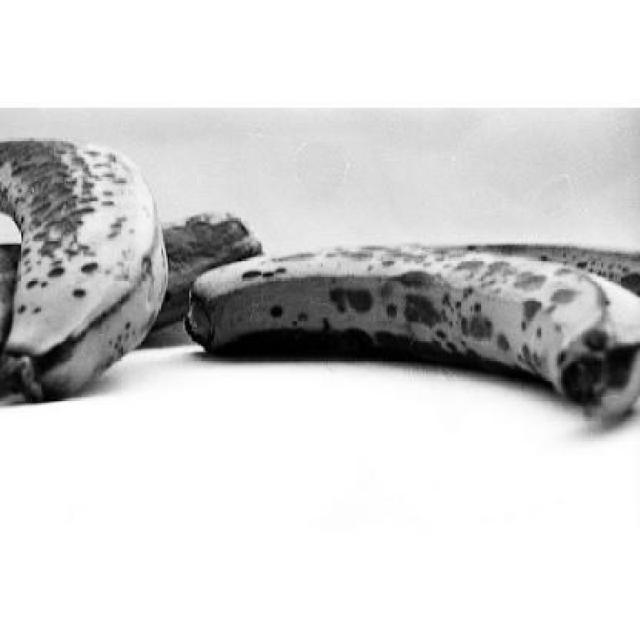Banana: (182, 239, 636, 413), (0, 133, 166, 402)
